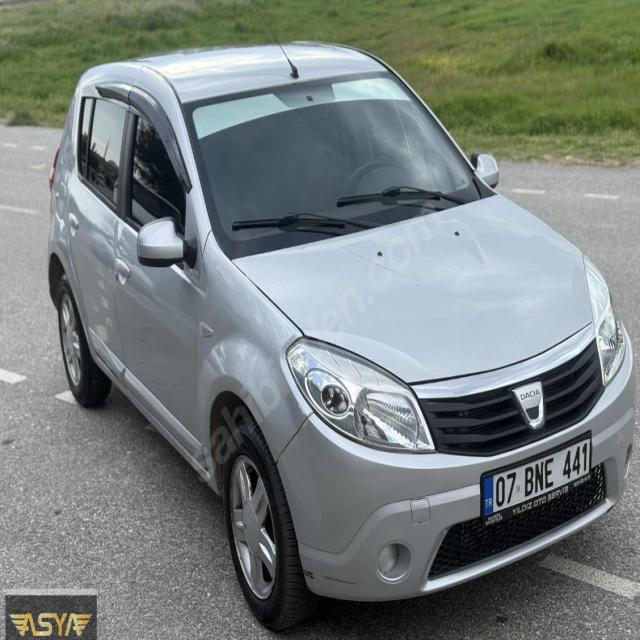dacia: (510, 377, 550, 435)
